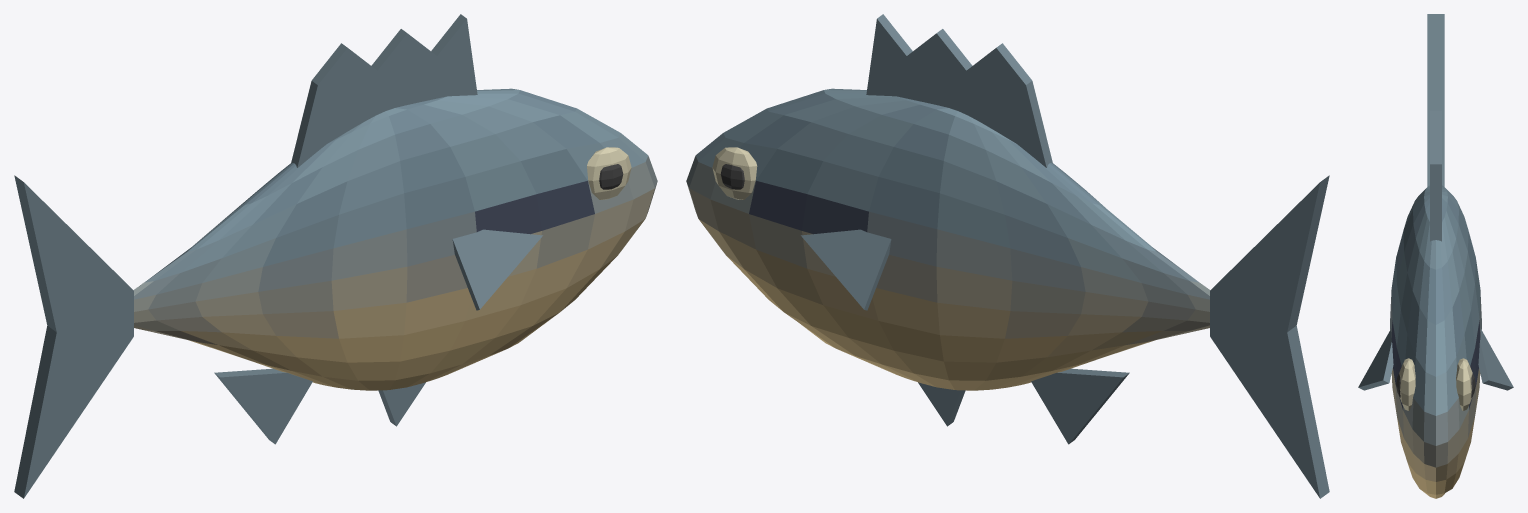
The model's file is Bluegill.glb.
The picture shows the model from 3 angles, left to right: view 1: azimuth 30°, elevation 25°; view 2: azimuth 150°, elevation 25°; view 3: azimuth 270°, elevation 25°; orthographic projection. The views are drawn at different scales.
Visible parts, largest first — view 1: Bluegill; view 2: Bluegill; view 3: Bluegill.
Part boxes in pixels (<box>): Bluegill: <box>14,14,657,498</box>; Bluegill: <box>686,14,1329,498</box>; Bluegill: <box>1358,14,1513,498</box>.
Bounding box in the file's own units: 1.79 × 1.05 × 0.4114.
